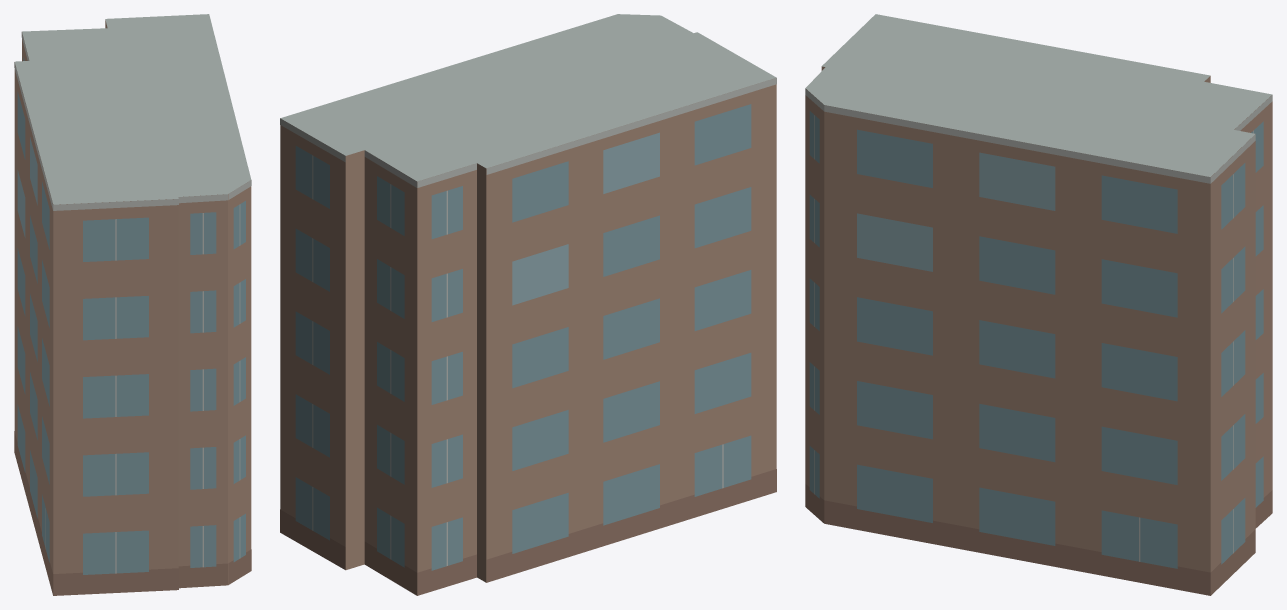
The model's file is survey-upis-32537791.glb.
3 renders of one model, left to right at view 1: azimuth 30°, elevation 25°; view 2: azimuth 150°, elevation 25°; view 3: azimuth 270°, elevation 25°, orthographic. The views are drawn at different scales.
Visible parts, largest first — view 1: survey-upis-32537791.tmp; view 2: survey-upis-32537791.tmp; view 3: survey-upis-32537791.tmp.
Boxes of the visible parts, x1,y1,x2,y2 form: survey-upis-32537791.tmp: (14, 14, 251, 595); survey-upis-32537791.tmp: (280, 14, 776, 595); survey-upis-32537791.tmp: (805, 14, 1272, 595).
Size of the model in its own units: 12.8 by 15.3 by 15.48.
